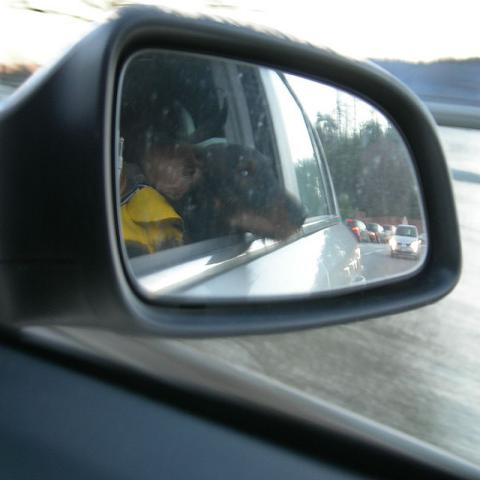car: (0, 4, 479, 474), (390, 227, 416, 261), (368, 224, 387, 244)
